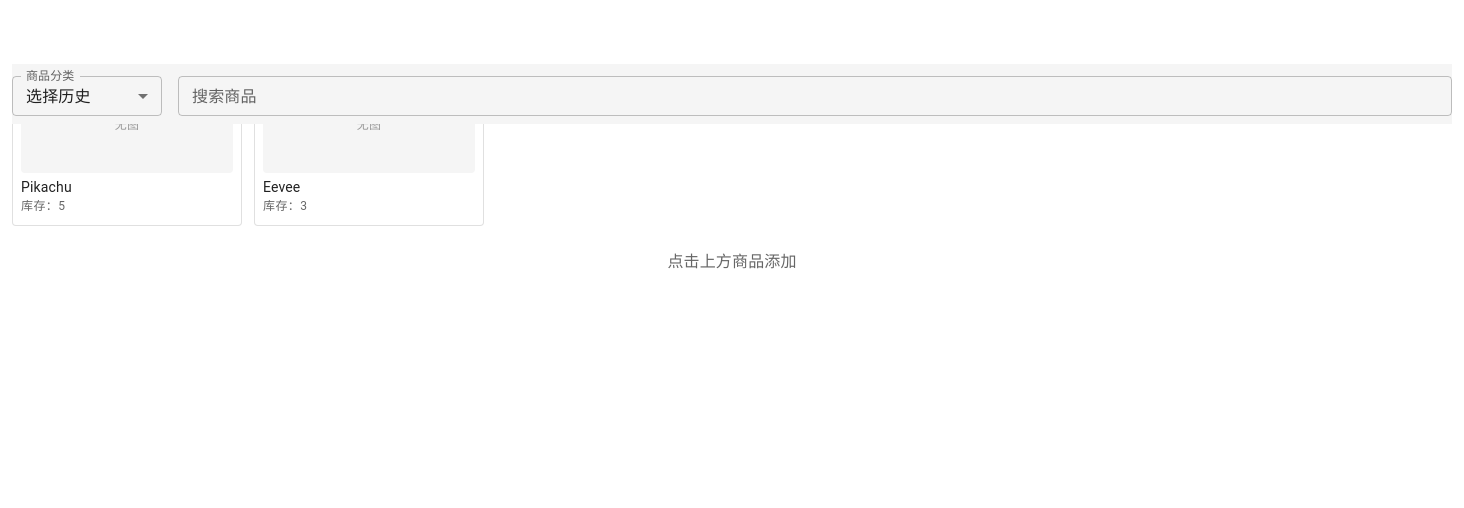
OrderDetailAddPanel › keeps the unsaved rows when a save fails
Click the text "Pikachu" at (46, 187), box [21, 179, 72, 195]
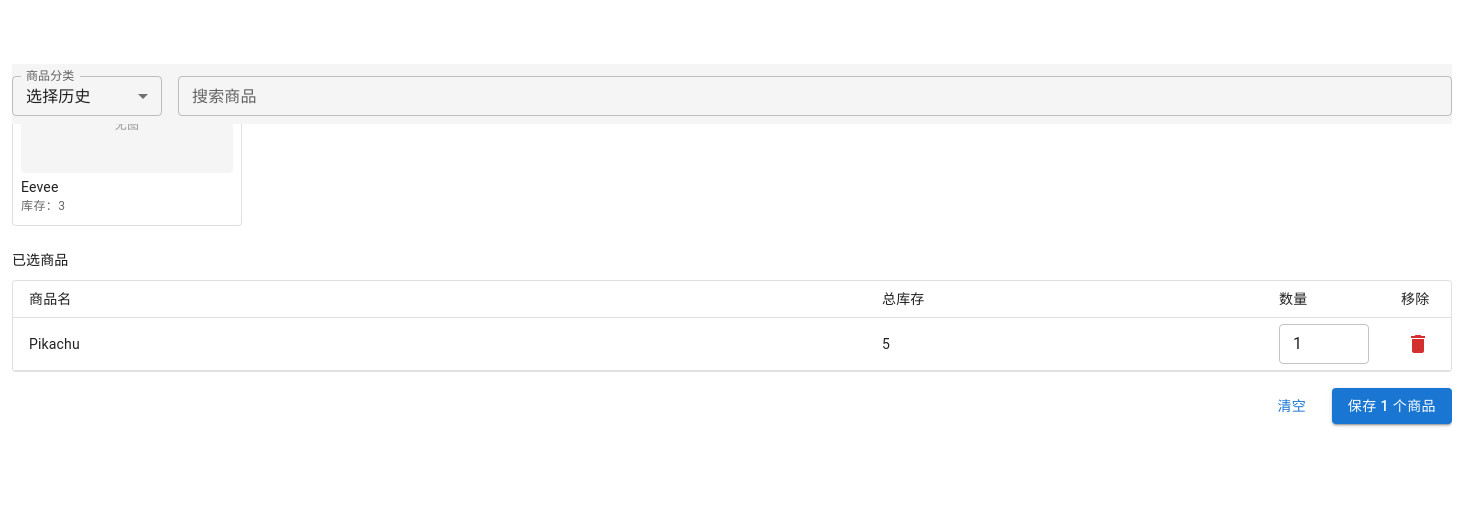
Click the text "Eevee" at (40, 187), box [21, 179, 58, 195]
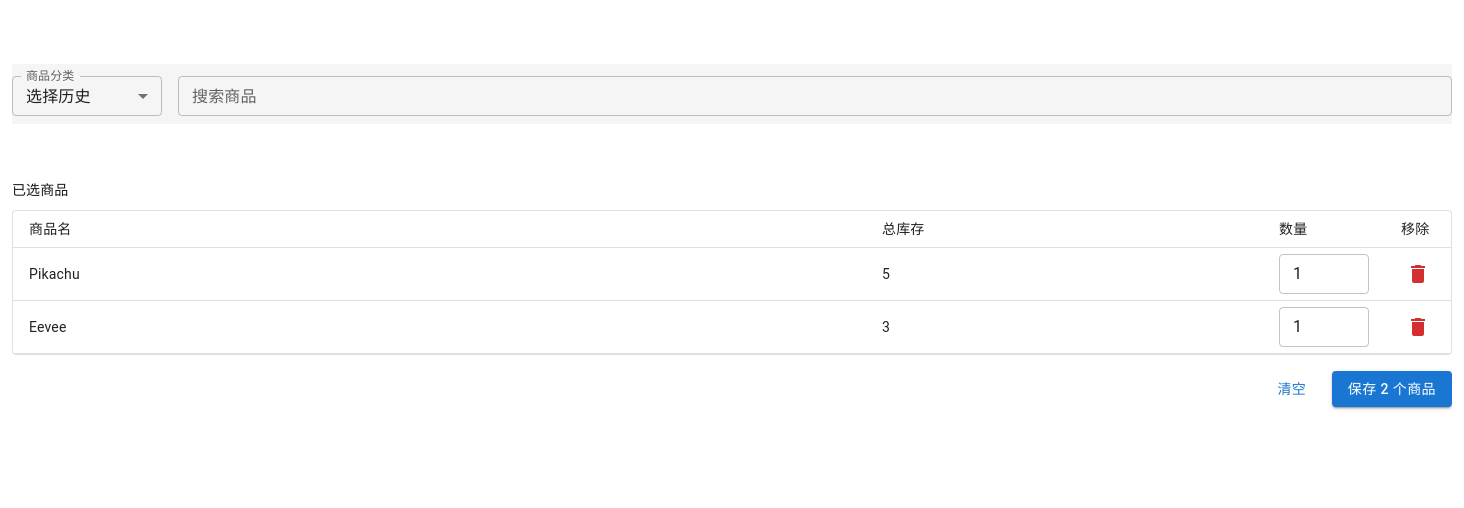
Click the button "保存 2 个商品" at (1392, 389), box [1332, 371, 1452, 408]
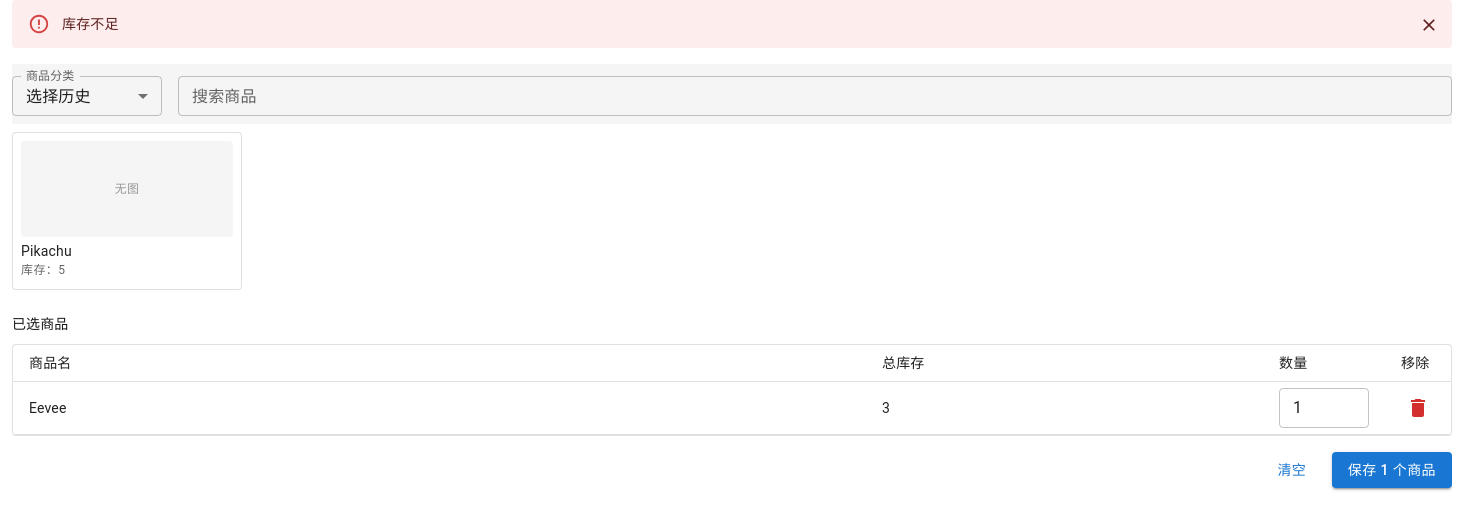
Result: the text "库存不足" is shown at [62, 16, 119, 32]
Result: the button "保存 1 个商品" is shown at [1332, 452, 1452, 488]
